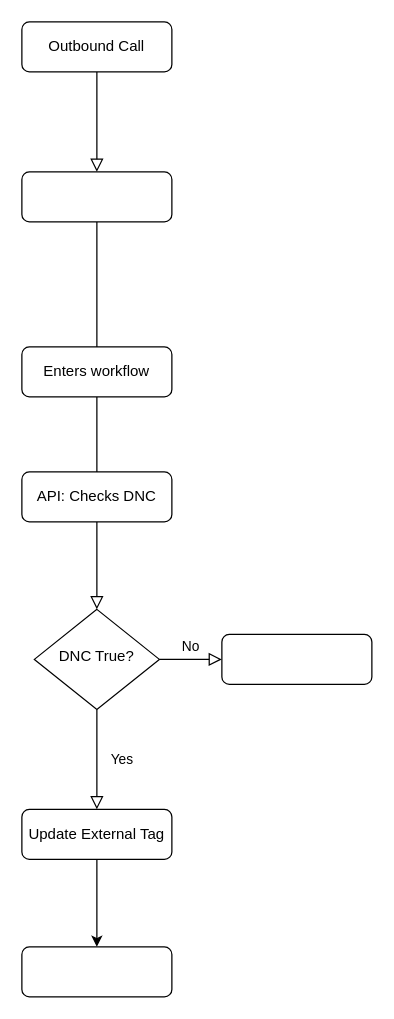
The diagram is 394 pixels wide and 1019 high, and some of its shapes have lost their labels. Each missing label, with the centre of its shape:
Connect call: the point at 296,658
Disconnect call: the point at 96,971
Process Automate Trigger: the point at 96,196
